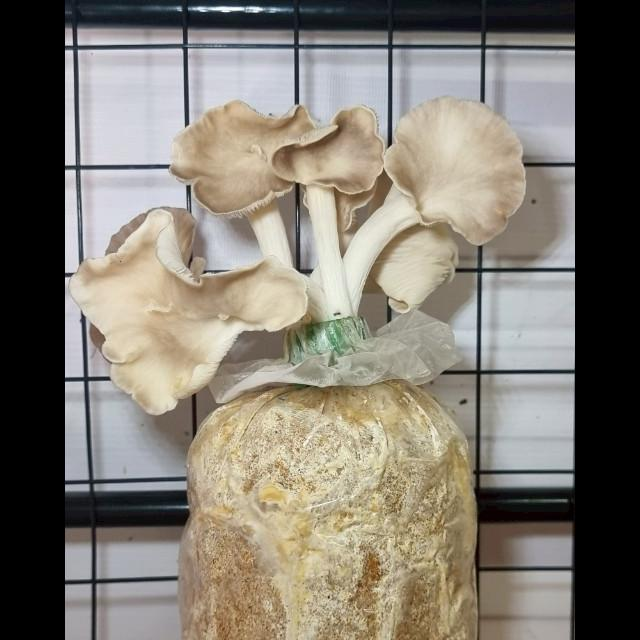normal: (65, 204, 320, 420), (222, 84, 390, 326), (382, 94, 526, 256), (166, 92, 312, 230)
